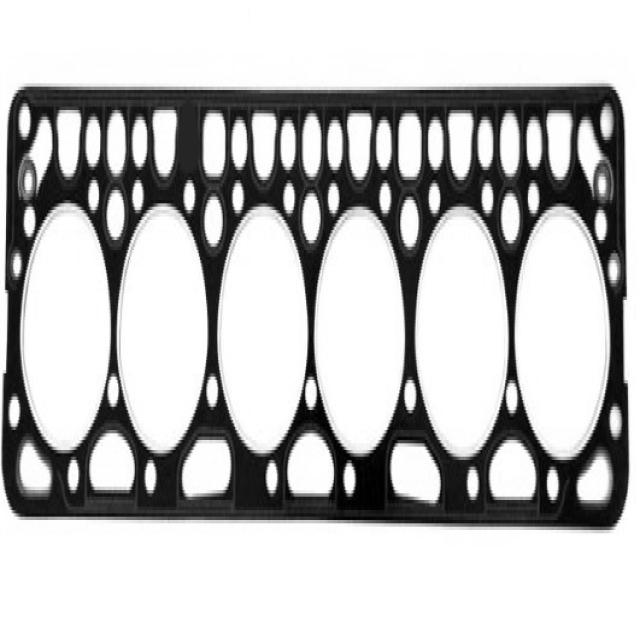missing hole: (170, 71, 210, 177)
